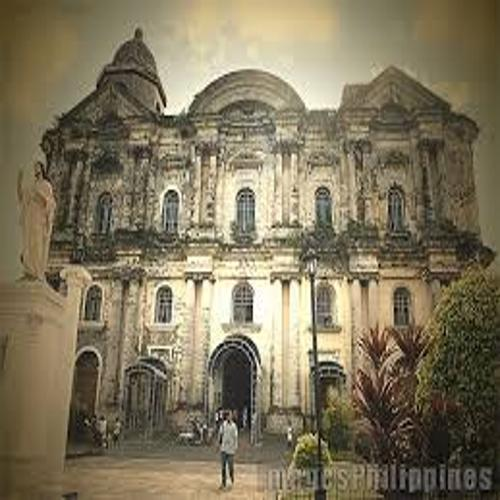Taal Basilica Church: (27, 20, 490, 438)
